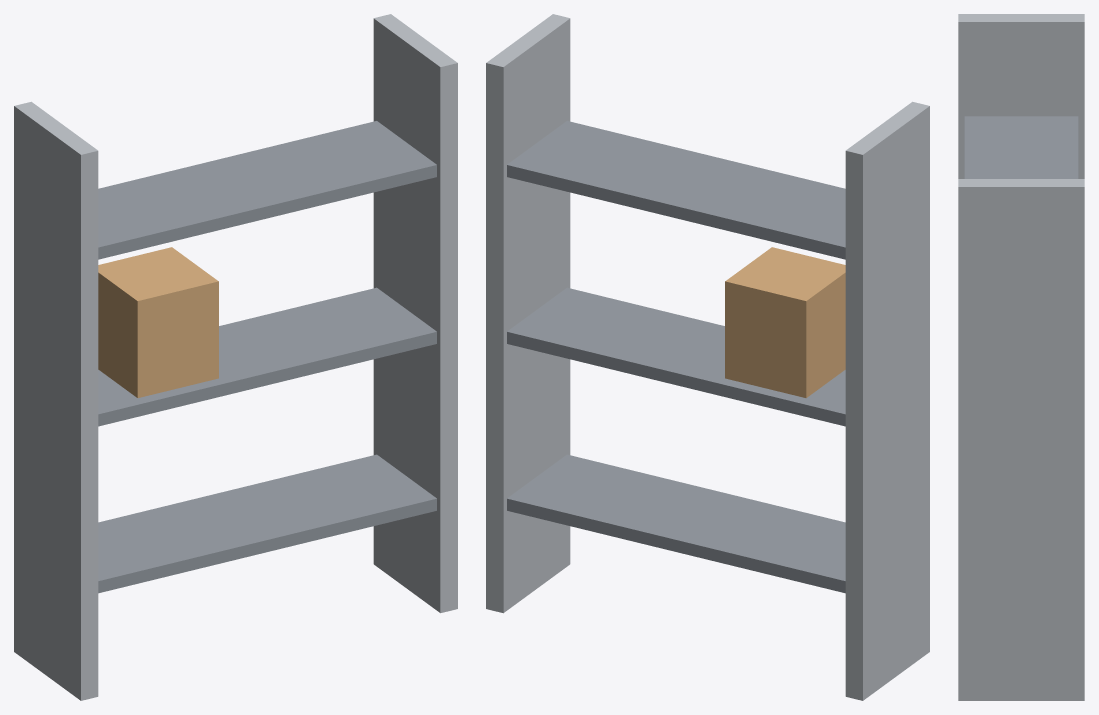
File: part-rack.glb
The picture shows the model from 3 angles, left to right: view 1: azimuth 30°, elevation 25°; view 2: azimuth 150°, elevation 25°; view 3: azimuth 270°, elevation 25°; orthographic projection. The views are drawn at different scales.
Visible parts, largest first — view 1: part-rack; view 2: part-rack; view 3: part-rack.
Boxes of the visible parts, bbox=[...] form: part-rack: bbox=[14, 14, 457, 700]; part-rack: bbox=[486, 14, 929, 700]; part-rack: bbox=[958, 14, 1084, 700].
Bounding box in the file's own units: 1.3 × 1.8 × 0.4.
